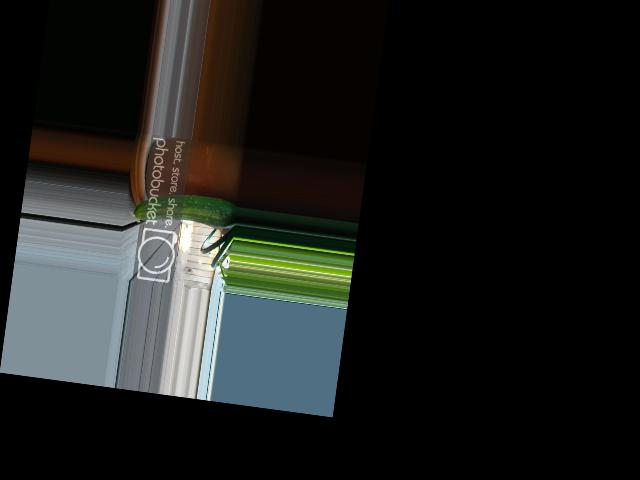cucumber: (128, 187, 237, 232)
